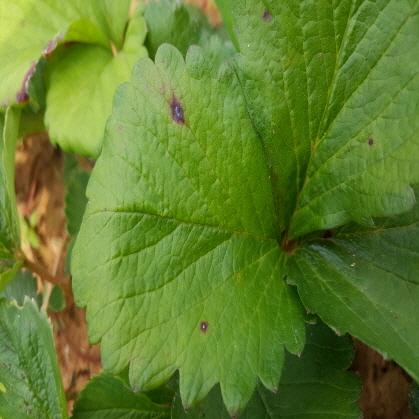Leaf Spot: (70, 43, 306, 418), (214, 0, 418, 244), (284, 205, 418, 384)
